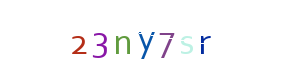2: (39, 0, 119, 80)
3: (82, 0, 162, 80)
7: (102, 0, 182, 80)
N: (90, 0, 170, 80)
R: (127, 0, 207, 80)
S: (121, 0, 201, 80)
Y: (91, 0, 171, 80)
